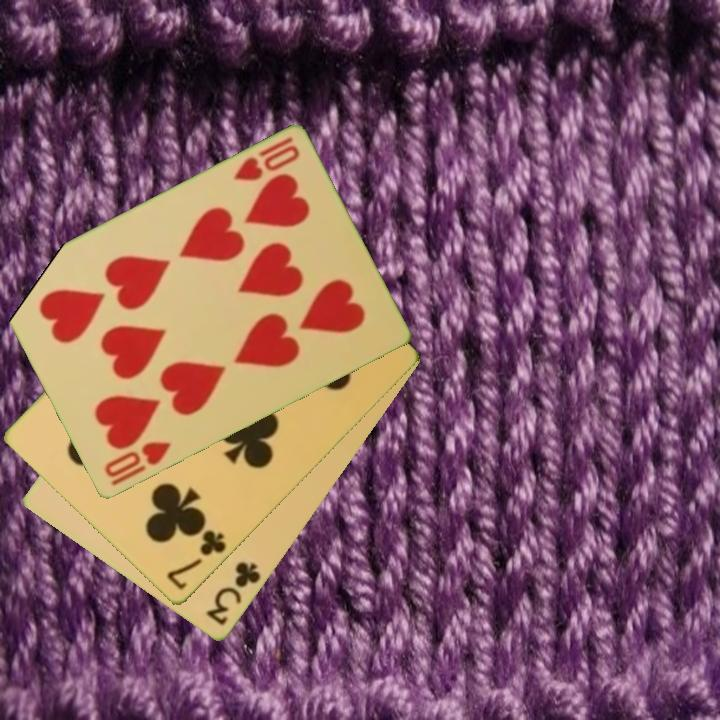10h: (100, 438, 174, 490), (229, 134, 303, 185)
3c: (202, 558, 264, 629)
7c: (163, 527, 229, 594)
